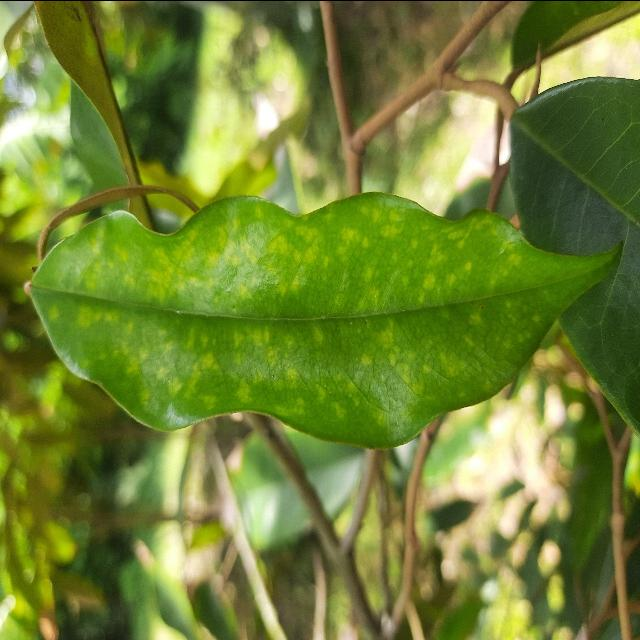Leaf Spot: (19, 181, 633, 453)
